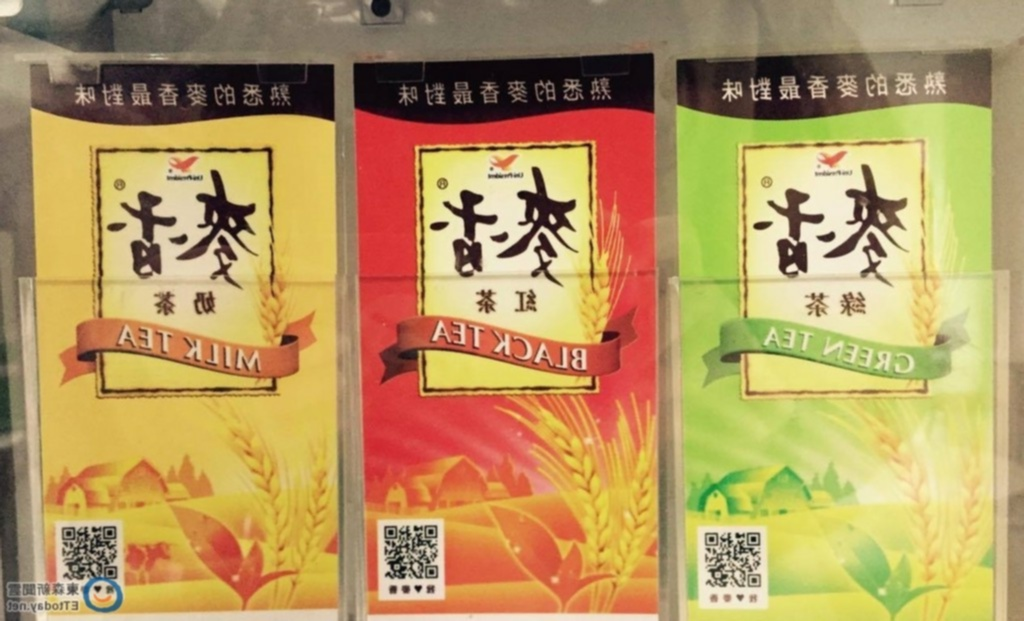鋁箔包: (668, 39, 1000, 621), (352, 46, 664, 621), (27, 51, 340, 621)
